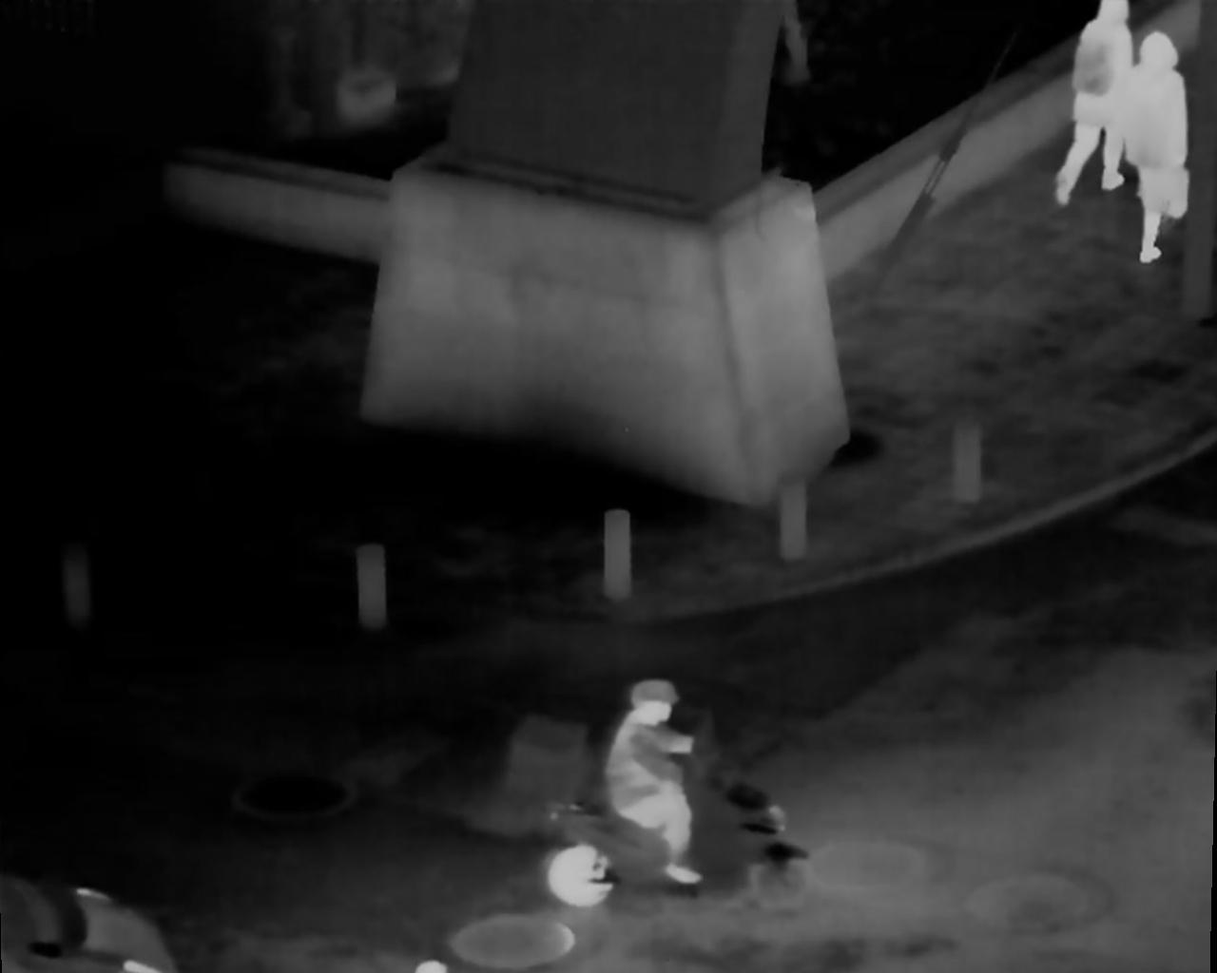person: (603, 677, 708, 882), (1126, 32, 1196, 259)
